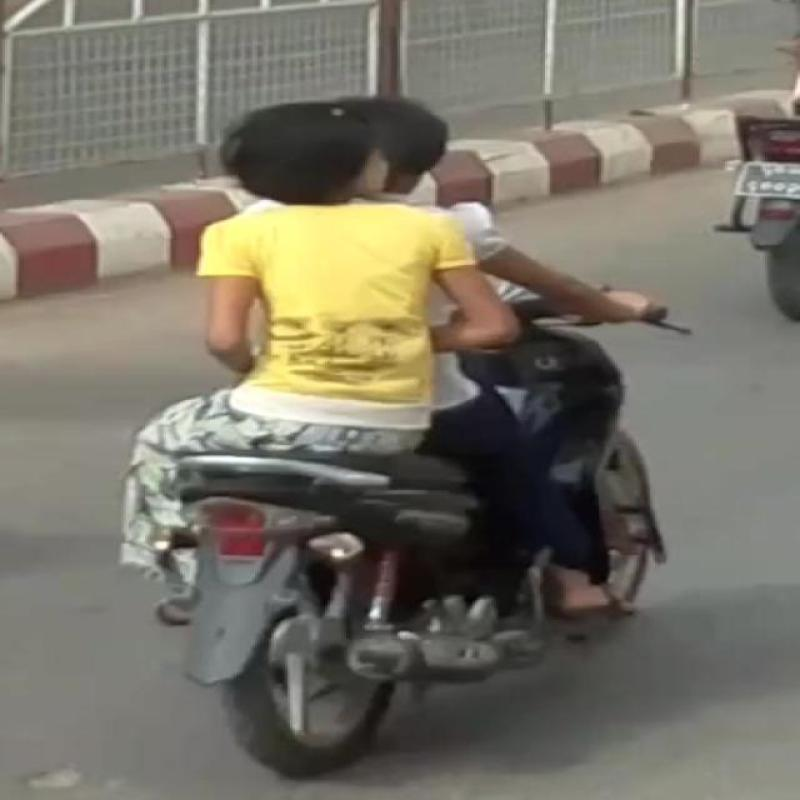nohelmet: (208, 92, 438, 258)
